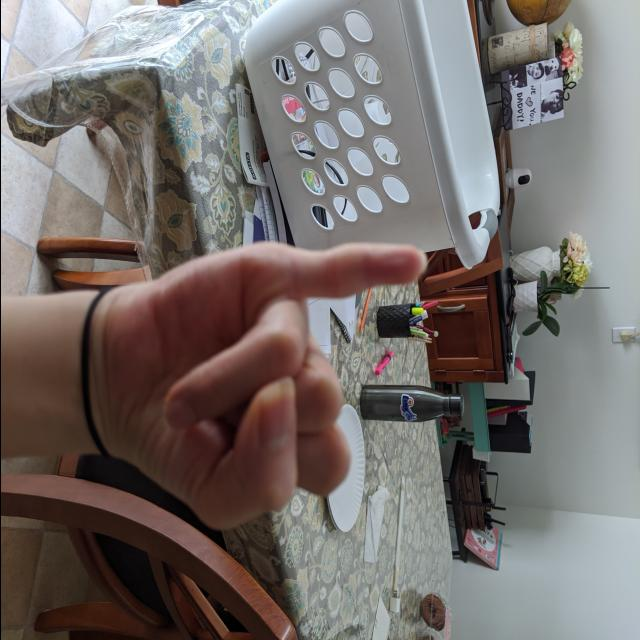I: (84, 236, 430, 538)
